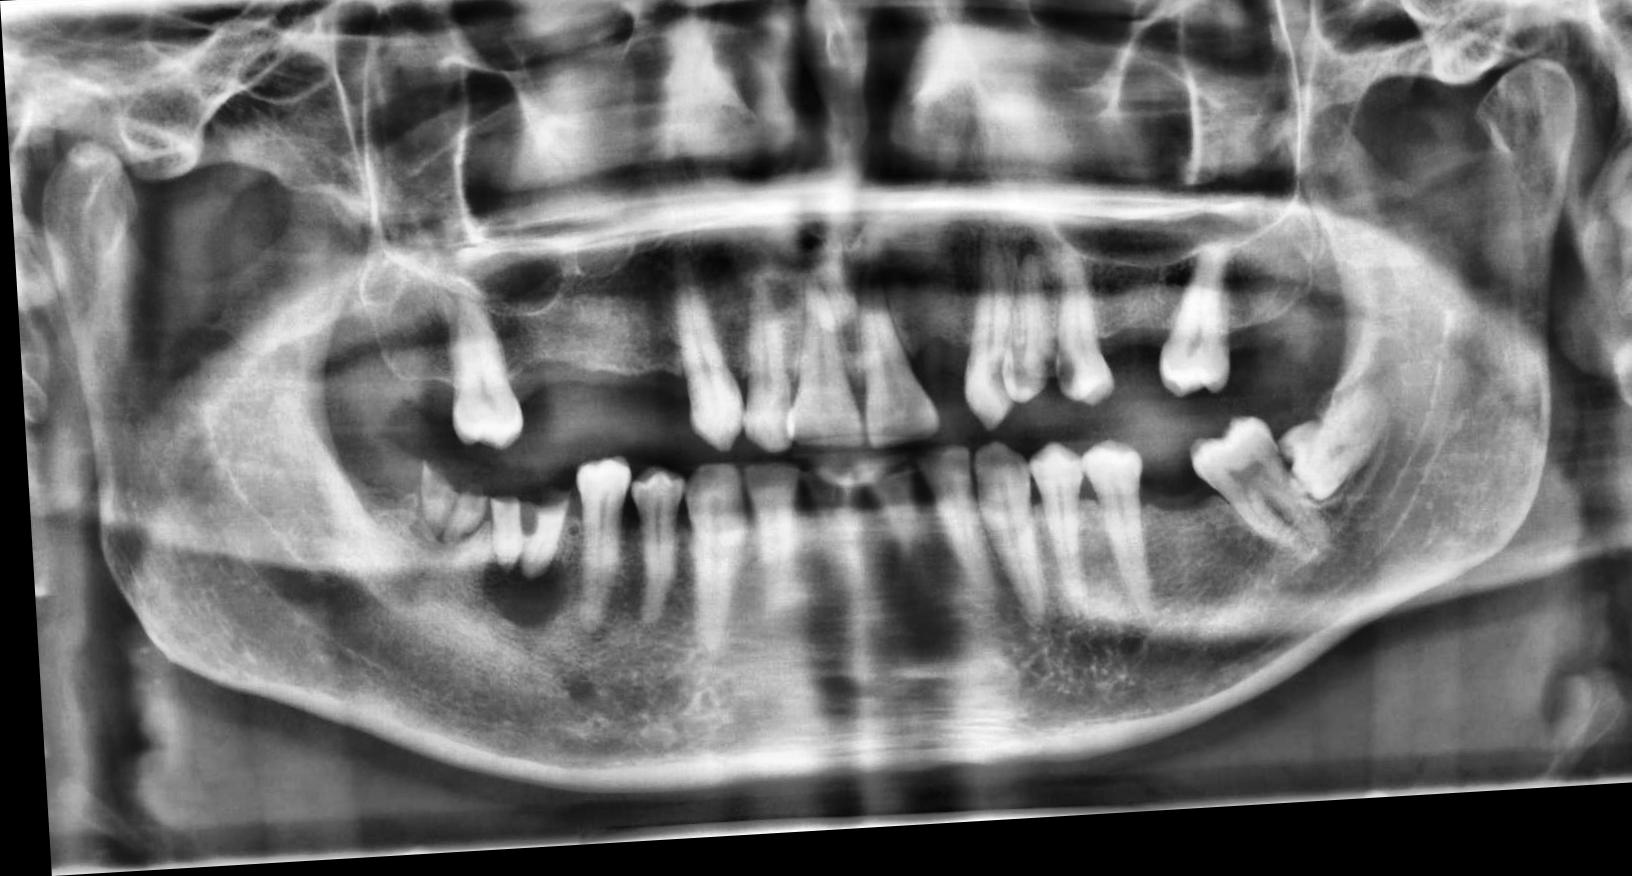radikuler: (473, 561, 566, 638)
